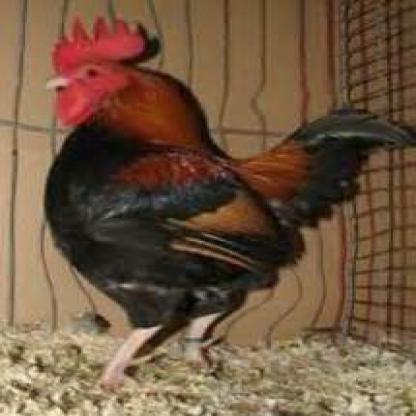chicken: (43, 13, 414, 384)
